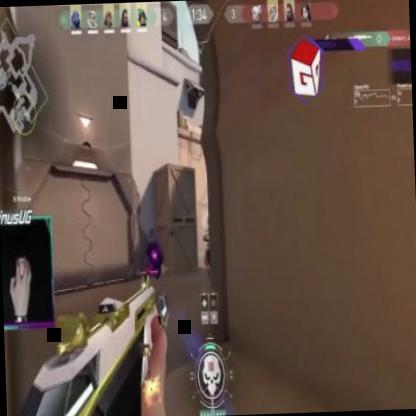enemy: (202, 215, 216, 283)
enemy_head: (206, 216, 212, 230)
